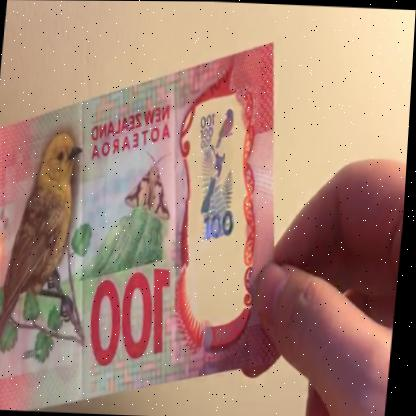100B: (186, 102, 250, 254)
